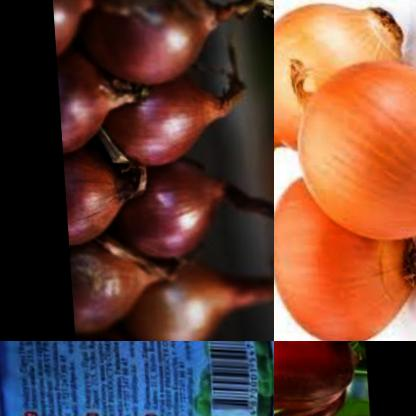bell pepper: (274, 341, 355, 416)
onion: (280, 52, 416, 242), (274, 165, 416, 341), (274, 0, 413, 166), (93, 158, 246, 277), (83, 67, 239, 163), (81, 0, 242, 93), (102, 259, 256, 341), (65, 232, 178, 341), (61, 146, 152, 250), (56, 51, 143, 153), (50, 0, 117, 56)
peas: (176, 360, 272, 416)
